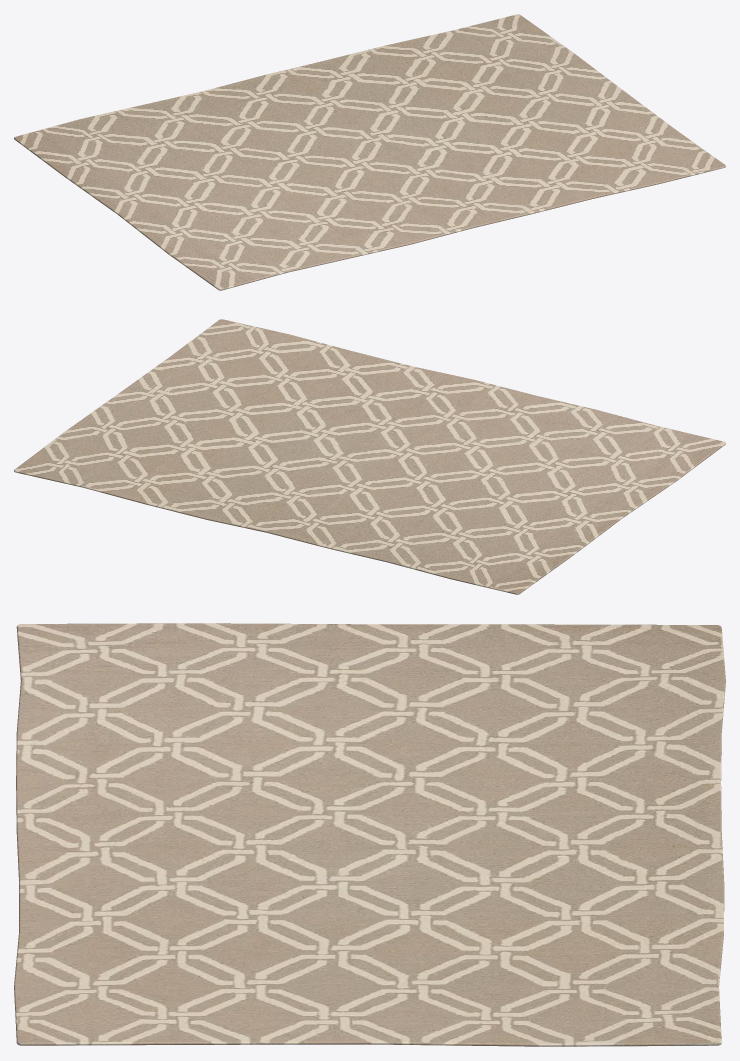
File: abo-B0719SX5PL.glb
The picture shows the model from 3 angles, top to bottom: view 1: azimuth 30°, elevation 25°; view 2: azimuth 150°, elevation 25°; view 3: azimuth 270°, elevation 25°; orthographic projection. The views are drawn at different scales.
Bounding box in the file's own units: 2.14 × 0.013 × 1.52.
1 material, 1 textured.
